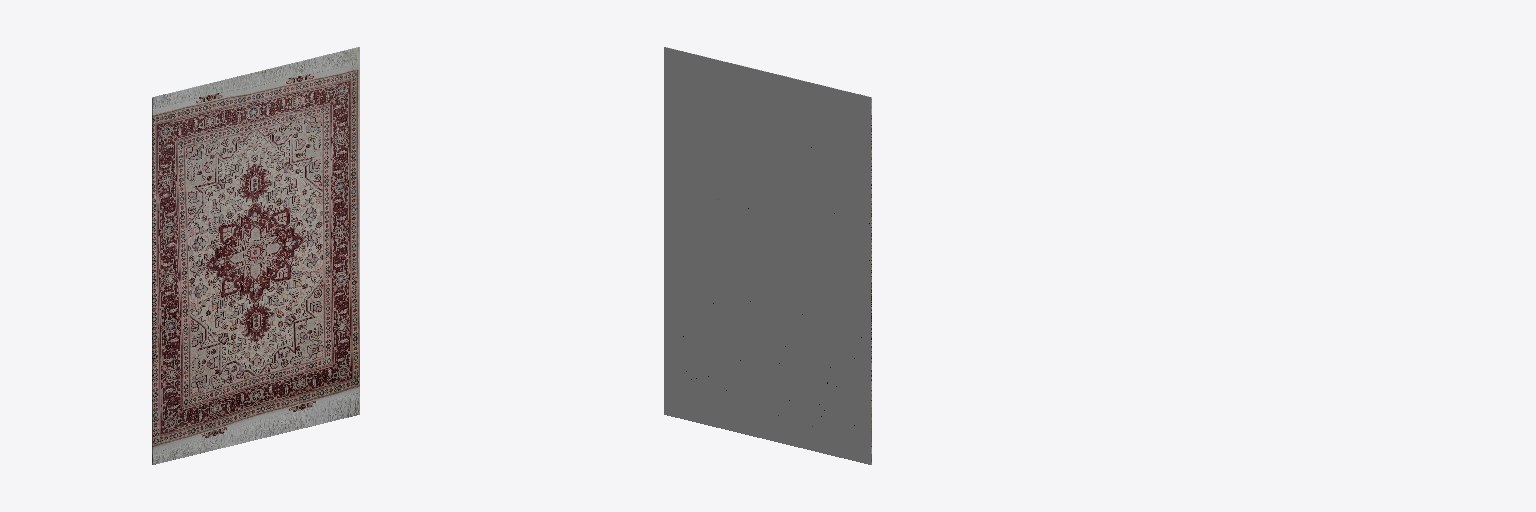
3 renders of one model, left to right at view 1: azimuth 30°, elevation 25°; view 2: azimuth 150°, elevation 25°; view 3: azimuth 270°, elevation 25°, orthographic.
Parts seen in each view (by area): view 1: Object.1; view 2: Object.1; view 3: none.
Boxes of the visible parts, box(x1,y1,x2,y2) form: Object.1: box(152, 47, 359, 464); Object.1: box(664, 47, 871, 464).
Bounding box in the file's own units: 1410 × 2390 × 5.2.
1 materials, 1 textured.